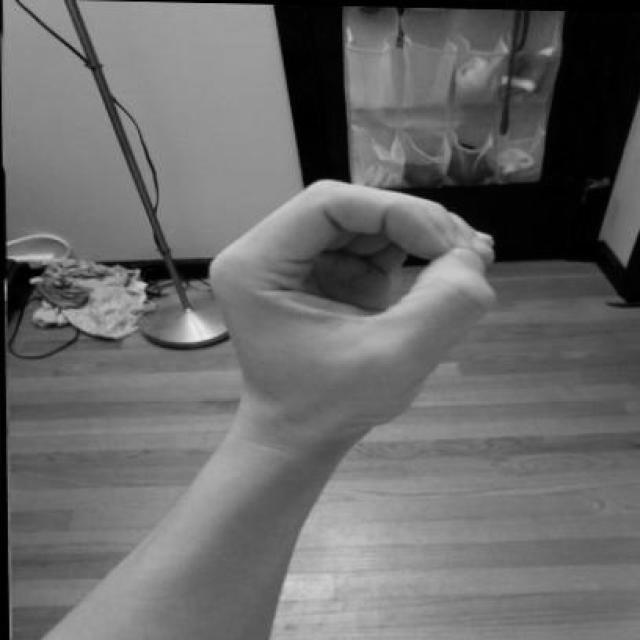O: (198, 171, 505, 439)
